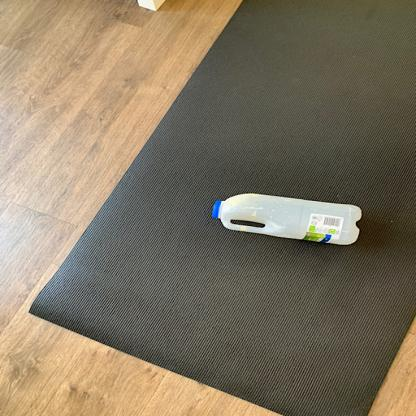trash: (208, 191, 362, 246)
